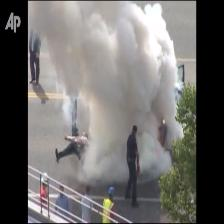smoke: (59, 14, 163, 125)
